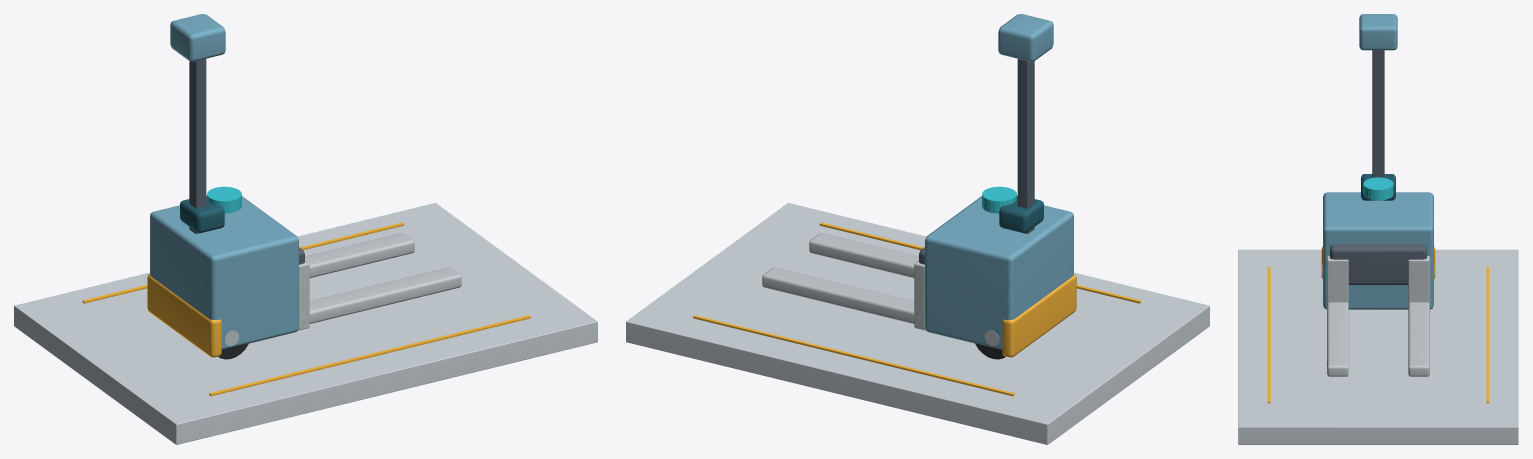
3 renders of one model, left to right at view 1: azimuth 30°, elevation 25°; view 2: azimuth 150°, elevation 25°; view 3: azimuth 270°, elevation 25°, orthographic. The views are drawn at different scales.
Parts seen in each view (by area): view 1: Ground plane, Low lift power unit, Fork tine / pallet handling, Perimeter safety bumper, Tall navigation or tiller mast, Fork tine / pallet handling.001, Upper guidance head, Concept clearance guide, Upper display, Navigation lidar, Concept clearance guide.001, Fork upright heel; view 2: Ground plane, Low lift power unit, Fork tine / pallet handling.001, Perimeter safety bumper, Tall navigation or tiller mast, Fork tine / pallet handling, Upper guidance head, Concept clearance guide.001, Upper display, Navigation lidar, Concept clearance guide, Fork upright heel.001; view 3: Ground plane, Low lift power unit, Fork carriage, Tall navigation or tiller mast, Fork tine / pallet handling, Fork tine / pallet handling.001, Upper guidance head, Fork upright heel, Fork upright heel.001, Navigation lidar, Concept clearance guide, Concept clearance guide.001 (+1 smaller).
Boxes of the visible parts, x1,y1,x2,y2 form: Ground plane: (14,203,597,444); Low lift power unit: (150,196,298,349); Fork tine / pallet handling: (301,267,461,324); Perimeter safety bumper: (147,274,221,357); Tall navigation or tiller mast: (189,59,206,233); Fork tine / pallet handling.001: (305,233,414,277); Upper guidance head: (170,14,225,61); Concept clearance guide: (209,315,530,396); Upper display: (180,196,224,232); Navigation lidar: (207,186,241,213); Concept clearance guide.001: (82,222,404,303); Fork upright heel: (298,260,309,330); Ground plane: (626,203,1209,444); Low lift power unit: (925,196,1073,349); Fork tine / pallet handling.001: (762,267,922,324); Perimeter safety bumper: (1002,274,1076,357); Tall navigation or tiller mast: (1017,59,1034,233); Fork tine / pallet handling: (809,233,918,277); Upper guidance head: (998,14,1053,61); Concept clearance guide.001: (693,315,1014,396); Upper display: (999,196,1043,232); Navigation lidar: (982,186,1016,213); Concept clearance guide: (819,222,1141,303); Fork upright heel.001: (914,260,925,330); Ground plane: (1238,249,1518,444); Low lift power unit: (1323,192,1433,309); Fork carriage: (1330,244,1426,284); Tall navigation or tiller mast: (1372,50,1384,177); Fork tine / pallet handling: (1327,302,1348,376); Fork tine / pallet handling.001: (1408,302,1429,376); Upper guidance head: (1359,14,1397,50); Fork upright heel: (1327,256,1348,303); Fork upright heel.001: (1408,256,1429,303); Navigation lidar: (1363,177,1393,200); Concept clearance guide: (1267,267,1270,403); Concept clearance guide.001: (1486,267,1489,403).
Bounding box in the file's own units: 2.52 × 1.92 × 1.68.
